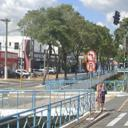NoVirarEsquerda: (86, 50, 96, 62)
NoVirarU: (86, 61, 96, 72)
